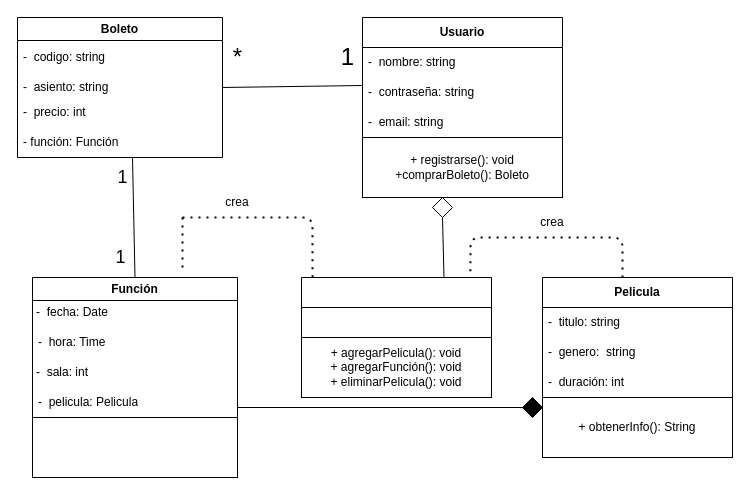
This 750x495 diagram has some shape labels left out. The centre of each missing label's shape, as x and y in pixels:
"+ mostrarAsientos() + reservarAsientos(): bool" goes at (135,447).
"Administrador" goes at (396,307).
